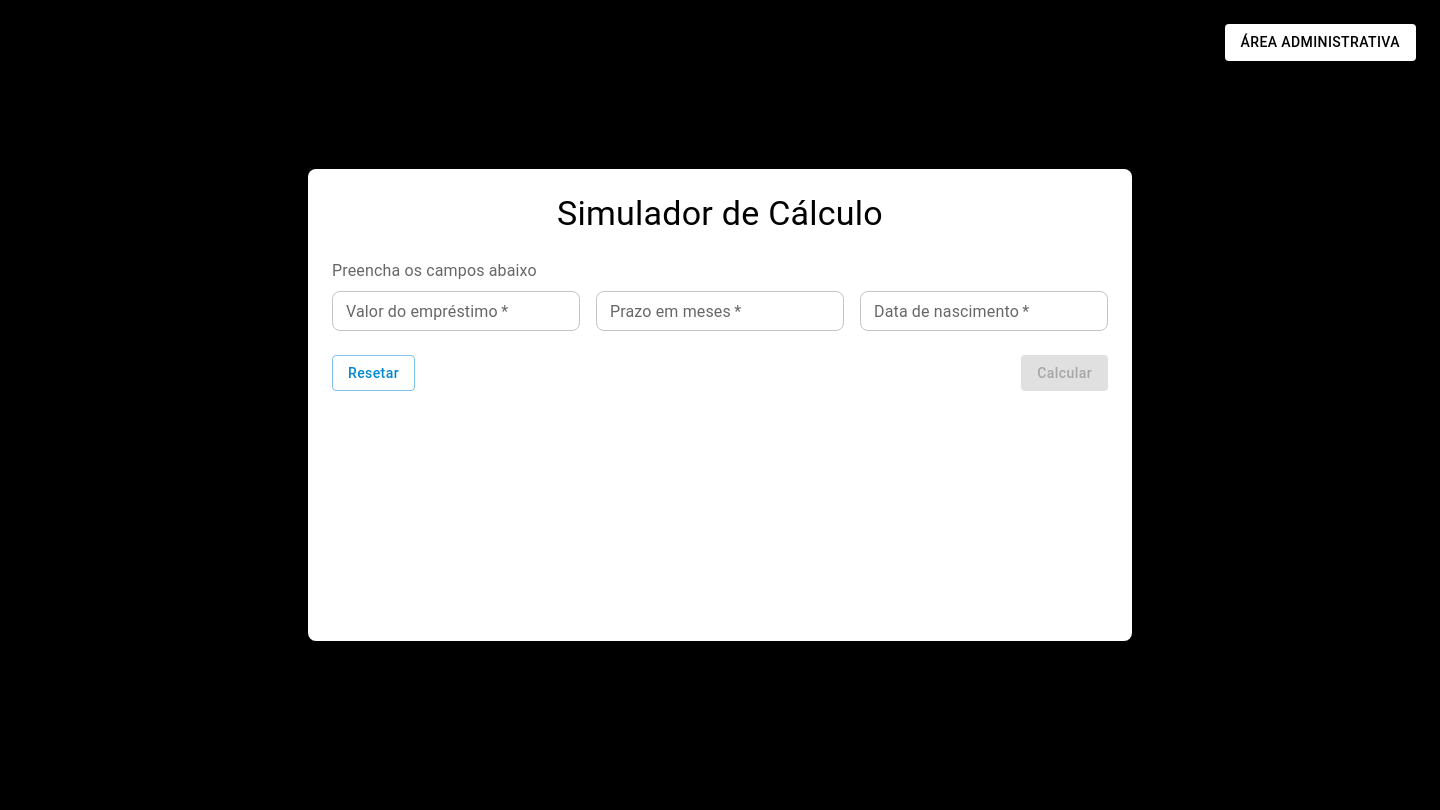
Simulador de Cálculo › exibe erro para prazo em meses menor ou igual a 0
In the field labelled "Valor do empréstimo *": x=456, y=311 [332, 291, 580, 331], type "1000"
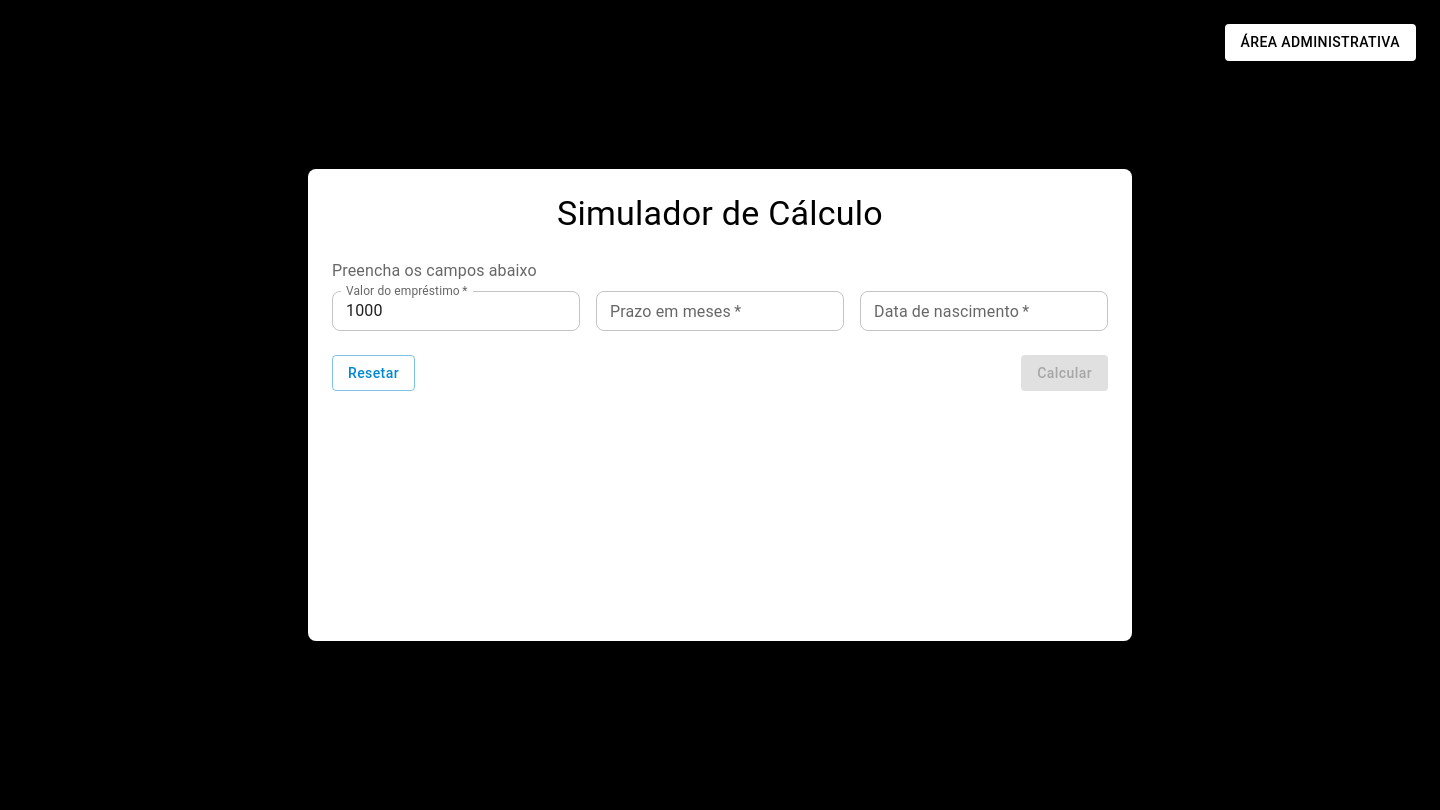
In the field labelled "Prazo em meses *": x=720, y=311 [596, 291, 844, 331], type "0"
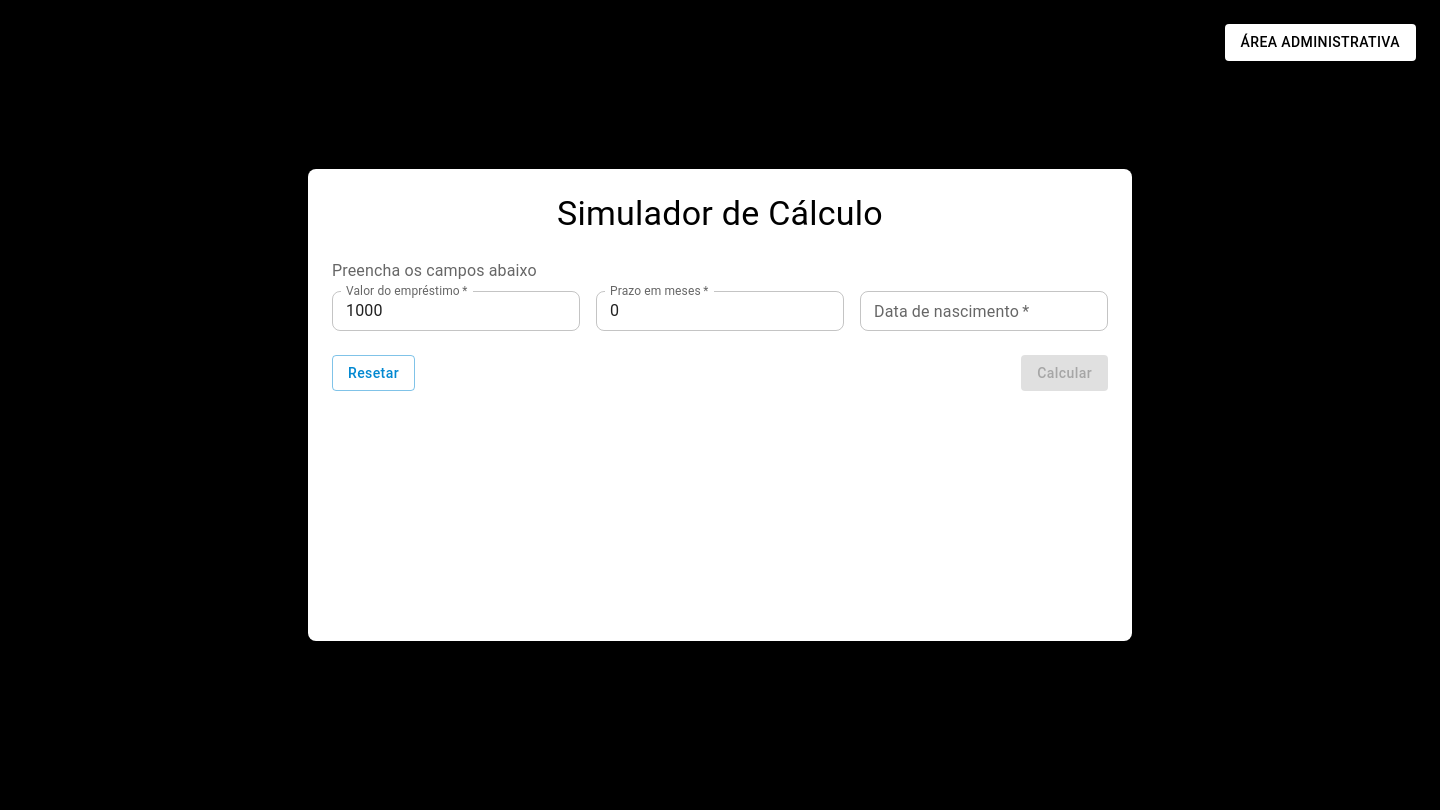
In the field labelled "Data de nascimento *": x=984, y=311 [860, 291, 1108, 331], type "01/01/2000"
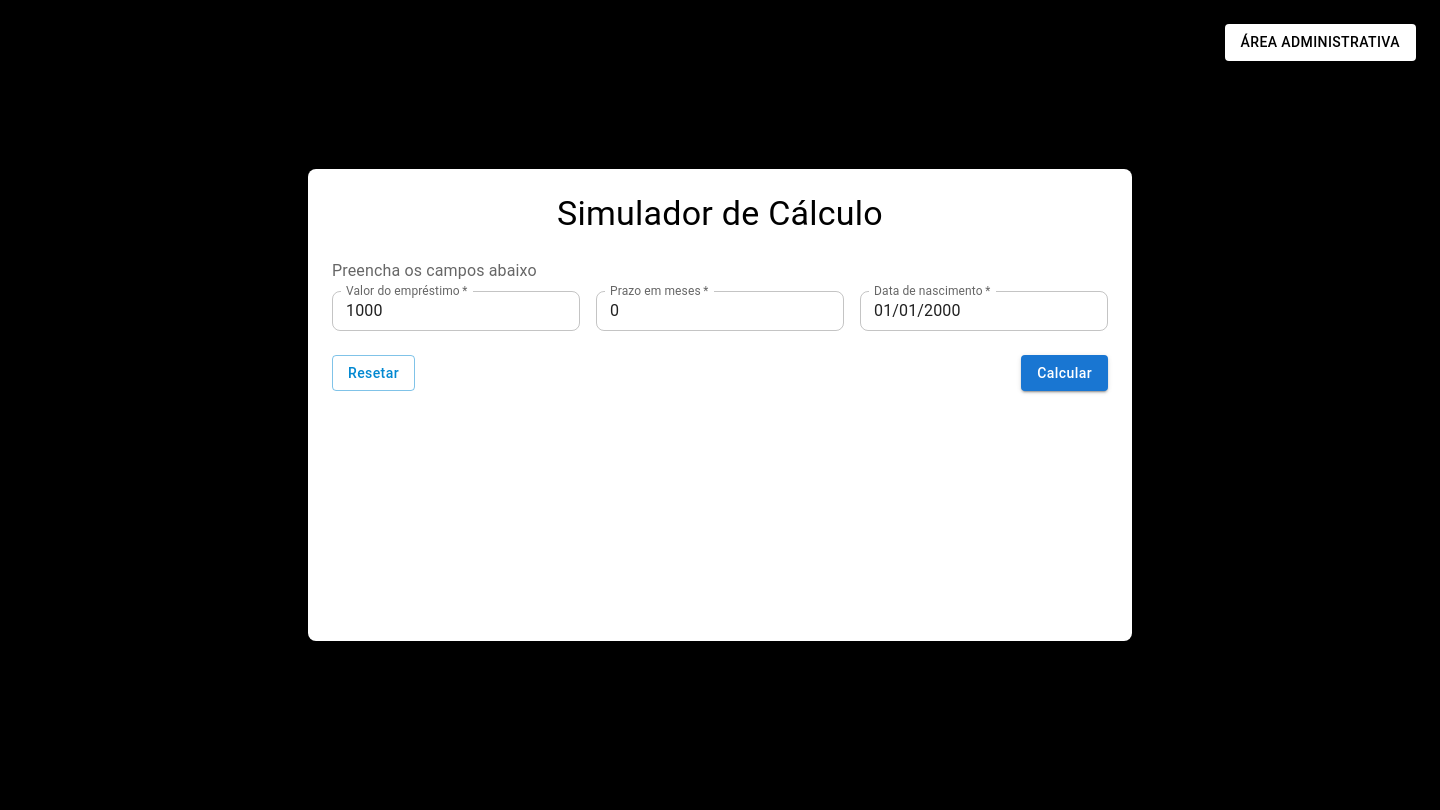
Click the button "Calcular": x=1065, y=373 [1021, 355, 1108, 392]
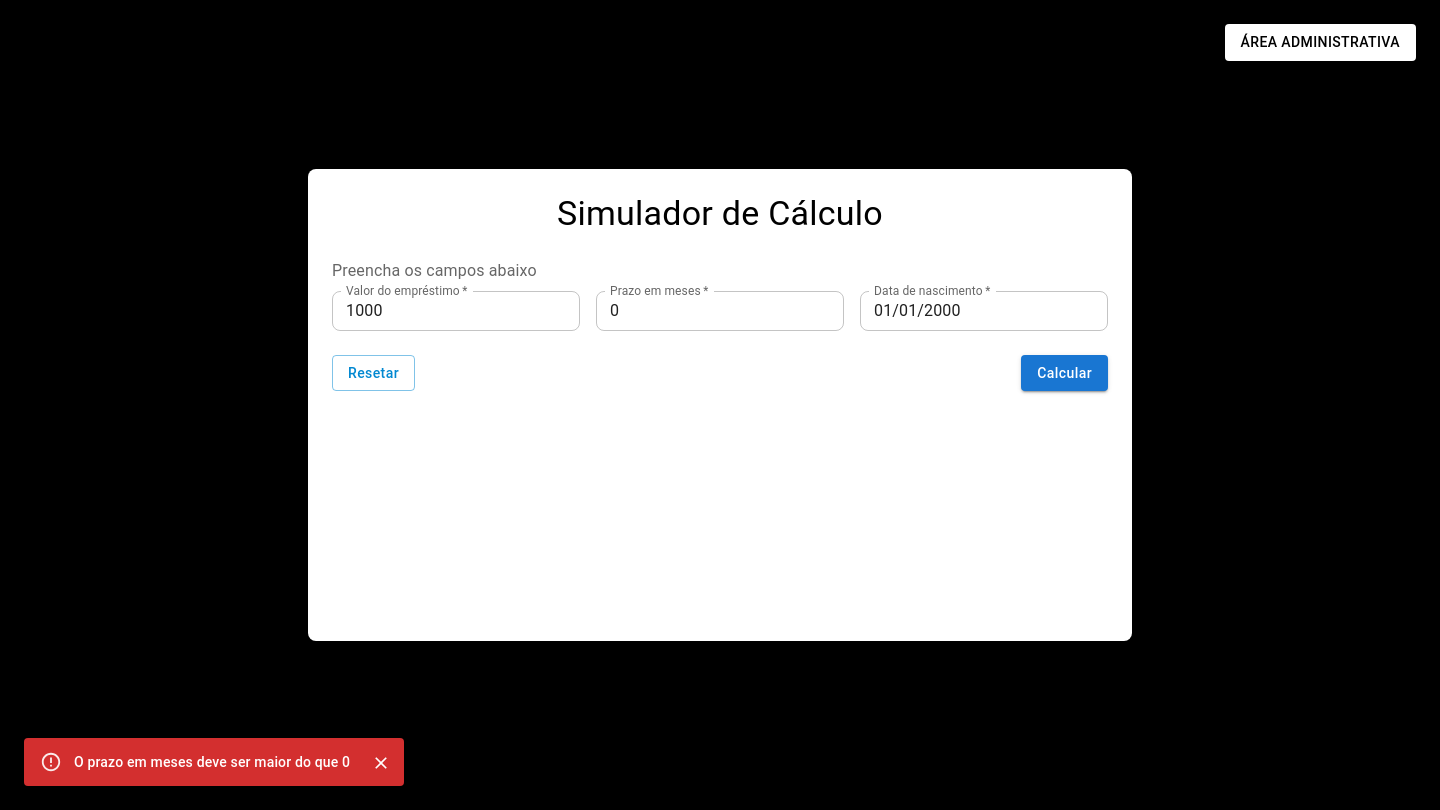
Check: the text "O prazo em meses deve ser maior do que 0" is shown, box [74, 754, 350, 770]
